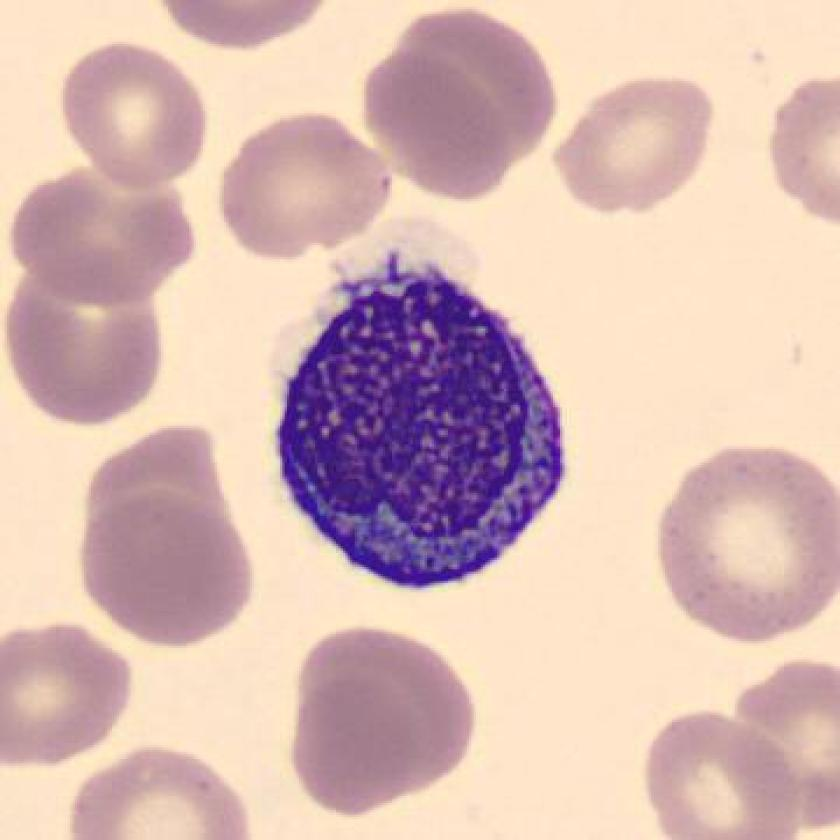monocyte: (251, 233, 587, 608)
